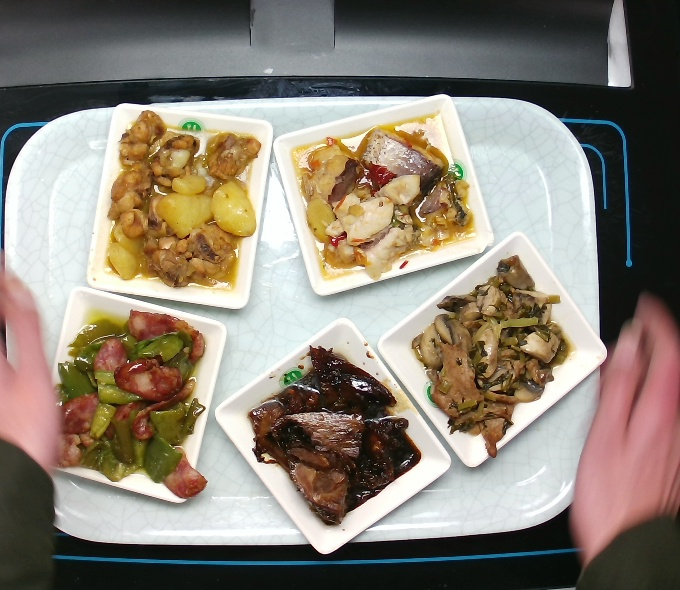wcq-JiangZhiYa: (248, 344, 424, 526)
wcq-MoGuRouPian: (410, 254, 569, 461)
wcq-SuanCaiYu: (288, 112, 476, 280)
wcq-TuDouJiKuai: (104, 108, 263, 291)
